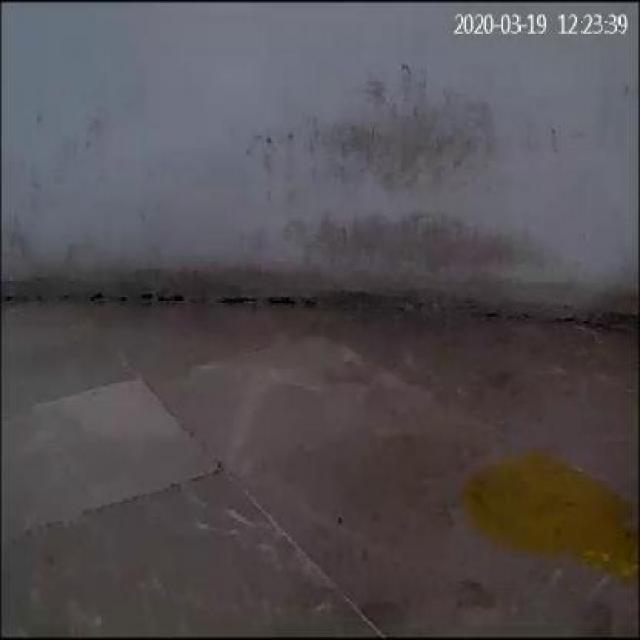spill: (462, 448, 618, 582)
